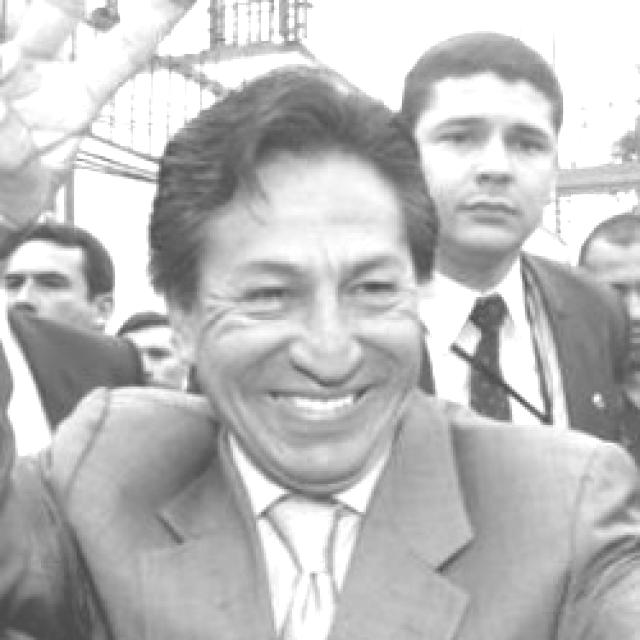real: (171, 145, 427, 482), (416, 37, 562, 249), (221, 274, 412, 316), (442, 126, 552, 157)
